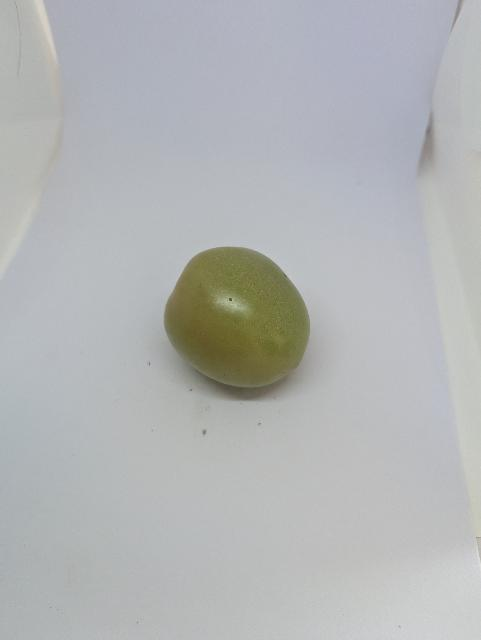green: (151, 235, 318, 423)
